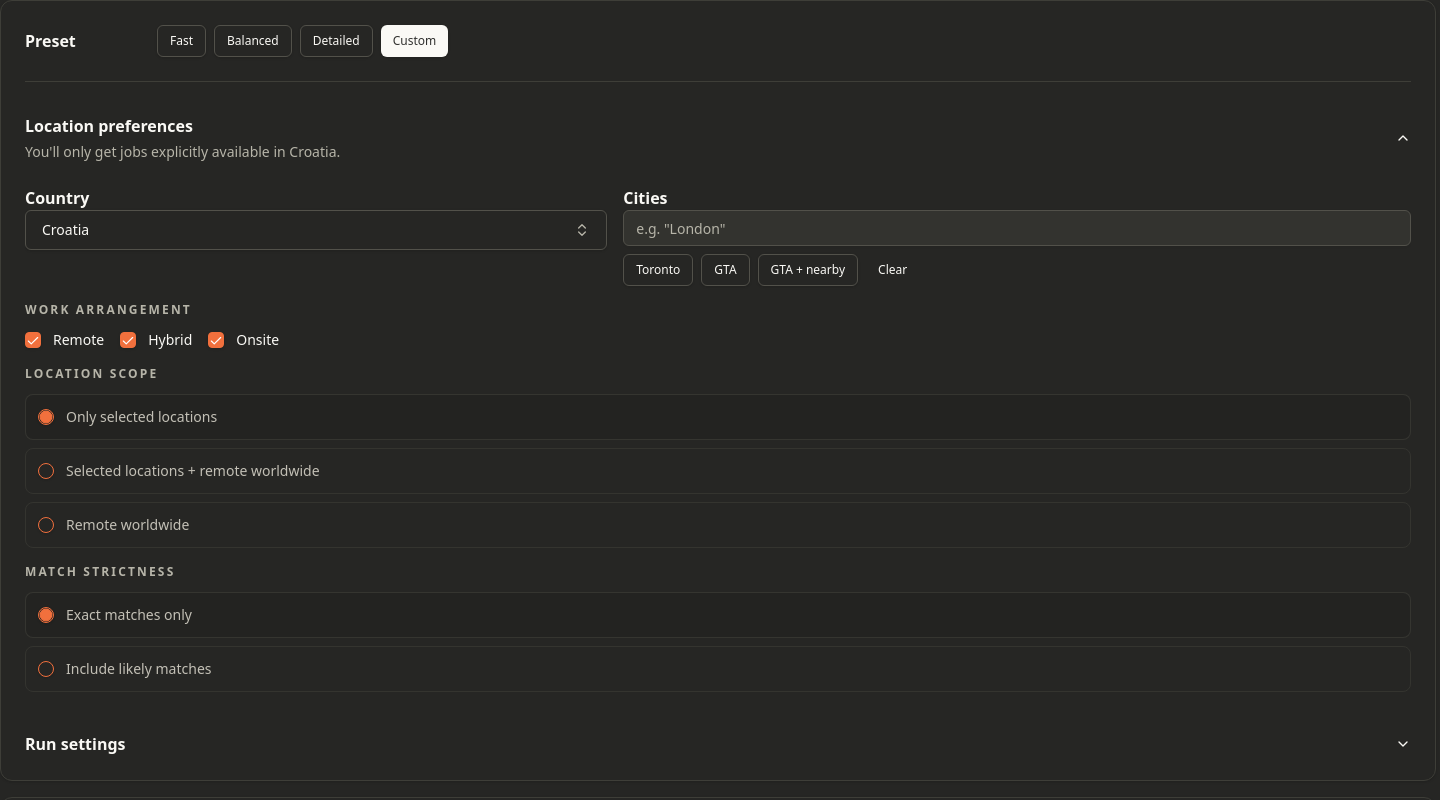
Test case: AutomaticRunTab › normalizes saved max jobs discovered values below 50 in the UI
Click the button "Run settings". click: coordinates (75, 744)
box: [25,732,1411,756]
(page scrolled)
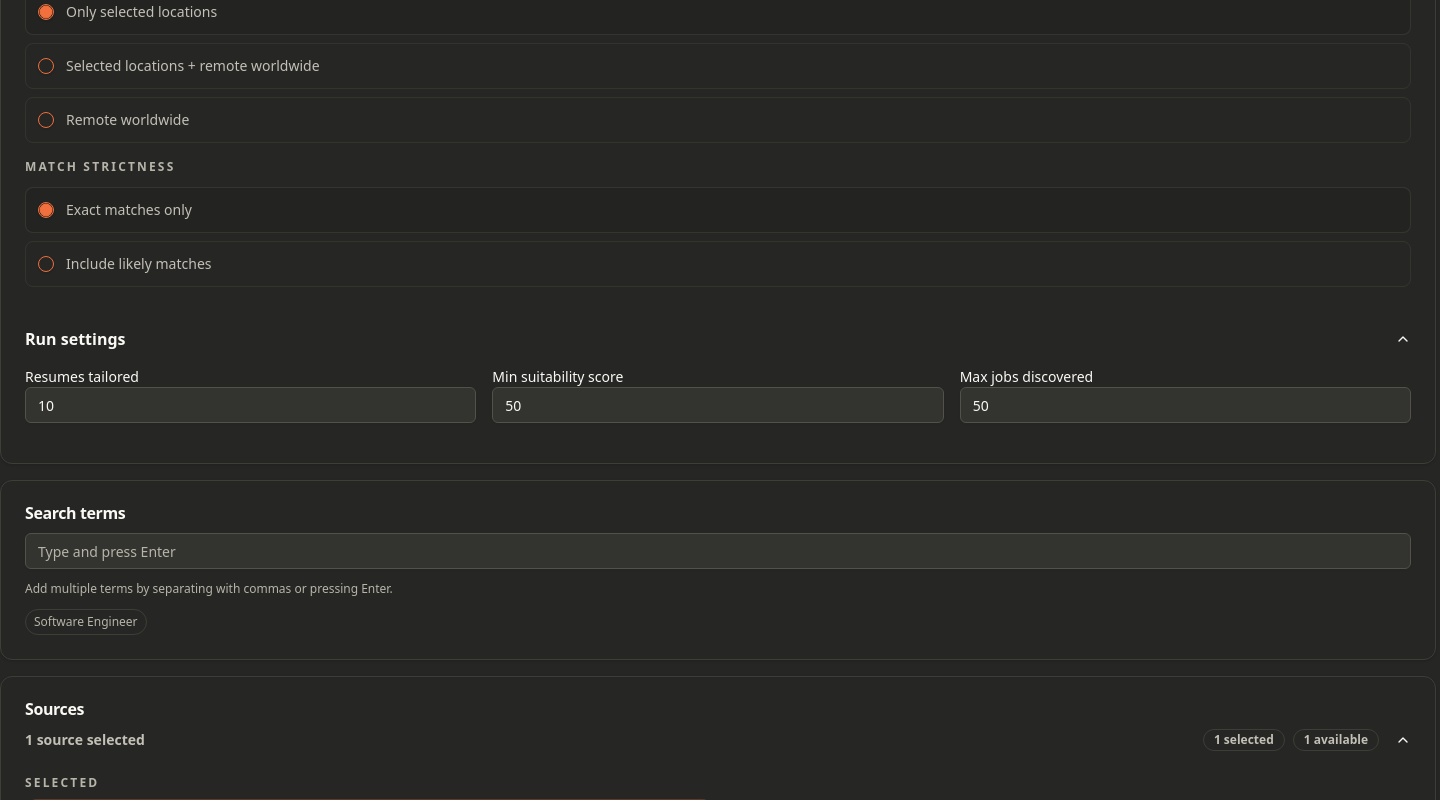
Expected: the number field labelled "Max jobs discovered" holds "50", [960,387,1411,423]
